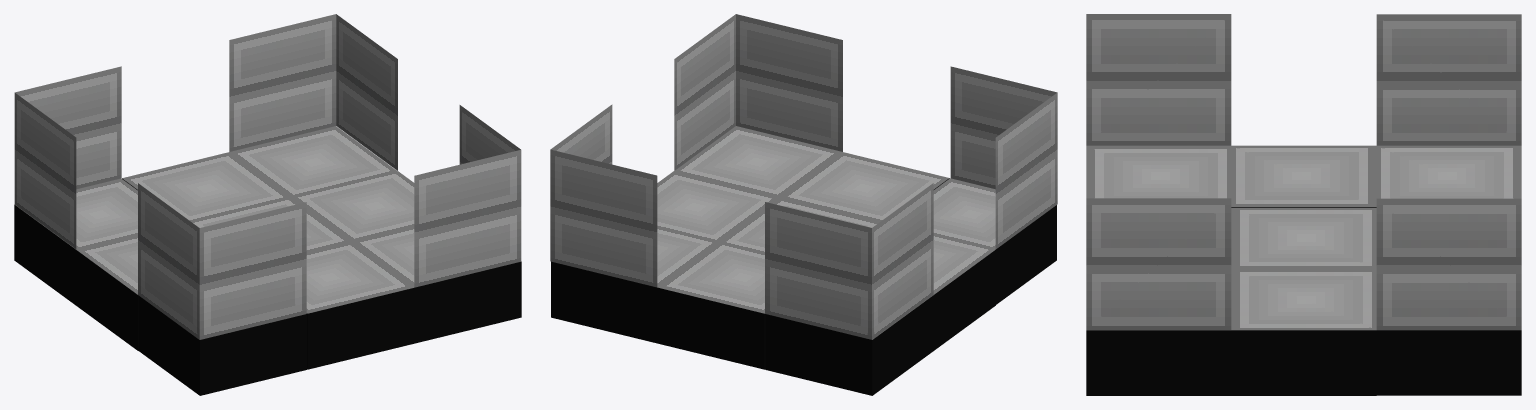
Rendered from Square4Exit.gltf.
3 renders of one model, left to right at view 1: azimuth 30°, elevation 25°; view 2: azimuth 150°, elevation 25°; view 3: azimuth 270°, elevation 25°, orthographic. The views are drawn at different scales.
Parts seen in each view (by area): view 1: Square4Exit; view 2: Square4Exit; view 3: Square4Exit.
Part boxes in pixels (x1,y1,x2,y2): Square4Exit: (14,14,521,395); Square4Exit: (550,14,1057,395); Square4Exit: (1086,14,1521,395).
Bounding box in the file's own units: 6.02 × 3 × 6.
Materials: 2 (1 with a texture image).
